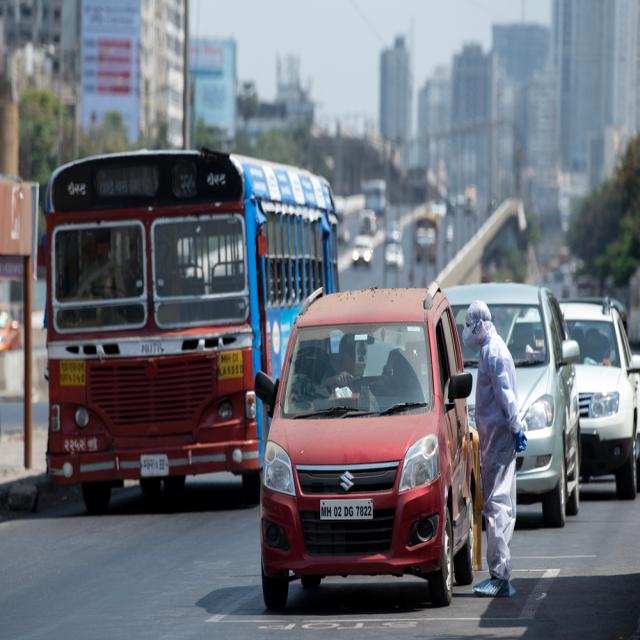bus: (50, 158, 339, 516)
car: (264, 284, 478, 604), (432, 284, 575, 523), (514, 306, 635, 495)
